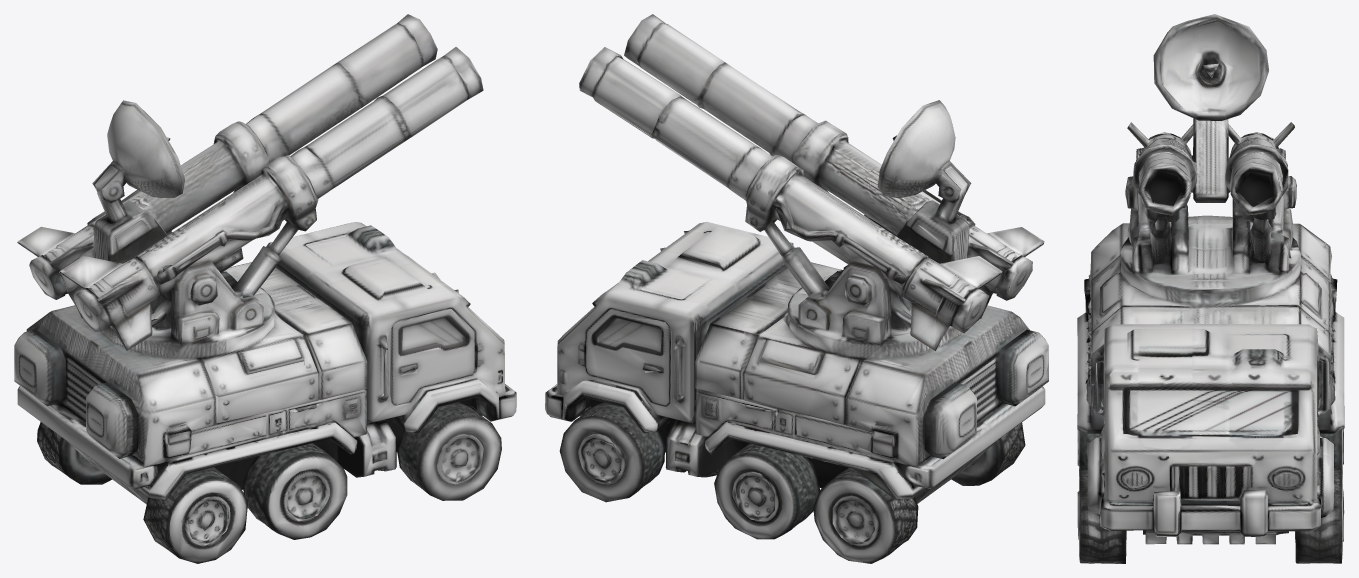
File: 防空炮.glb
3 renders of one model, left to right at view 1: azimuth 30°, elevation 25°; view 2: azimuth 150°, elevation 25°; view 3: azimuth 270°, elevation 25°, orthographic.
Parts seen in each view (by area): view 1: tripo_node_95912c21-83b0-47a8-b9e2-add506d8c65d; view 2: tripo_node_95912c21-83b0-47a8-b9e2-add506d8c65d; view 3: tripo_node_95912c21-83b0-47a8-b9e2-add506d8c65d.
Boxes of the visible parts, x1,y1,x2,y2 form: tripo_node_95912c21-83b0-47a8-b9e2-add506d8c65d: (14, 14, 516, 563); tripo_node_95912c21-83b0-47a8-b9e2-add506d8c65d: (545, 14, 1048, 563); tripo_node_95912c21-83b0-47a8-b9e2-add506d8c65d: (1077, 14, 1344, 563).
Size of the model in its own units: 0.9792 by 0.9192 by 0.5332.
Materials: 1 (1 with a texture image).
